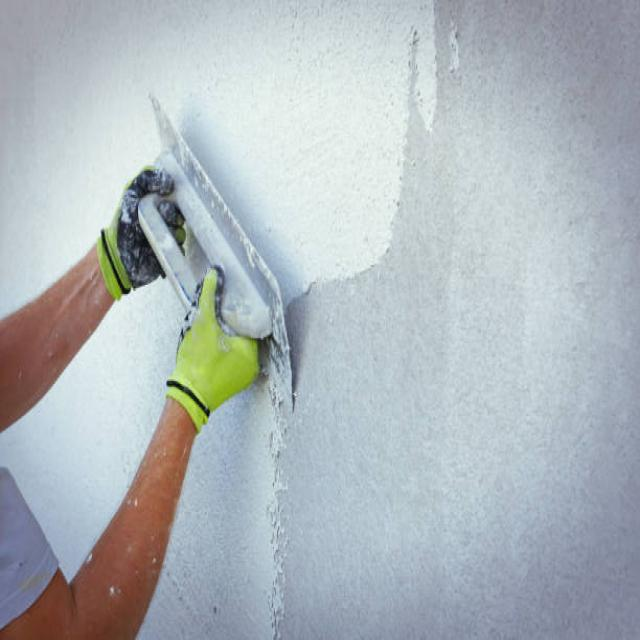gloves: (165, 267, 265, 437), (94, 168, 188, 303)
